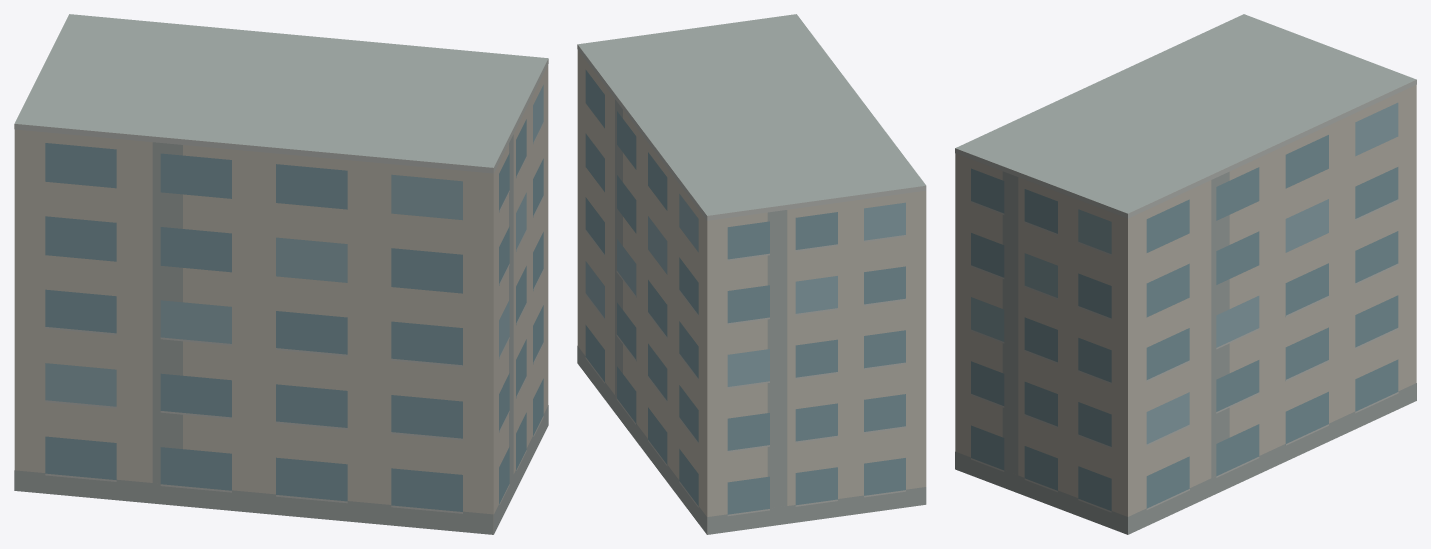
The model's file is survey-upis-32752297.glb.
3 views of the same model, side by side, from view 1: azimuth 30°, elevation 25°; view 2: azimuth 150°, elevation 25°; view 3: azimuth 270°, elevation 25° (orthographic). The views are drawn at different scales.
Parts seen in each view (by area): view 1: survey-upis-32752297.tmp; view 2: survey-upis-32752297.tmp; view 3: survey-upis-32752297.tmp.
Part boxes in pixels (x1=…): survey-upis-32752297.tmp: x1=14, y1=14, x2=548, y2=534; survey-upis-32752297.tmp: x1=577, y1=14, x2=926, y2=534; survey-upis-32752297.tmp: x1=955, y1=14, x2=1416, y2=534.
Size of the model in its own units: 20.95 by 15.7 by 20.46.
